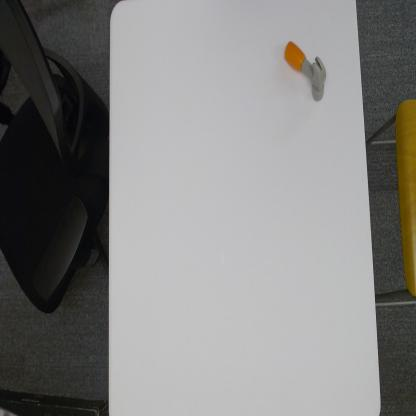Hammer: (284, 38, 327, 102)
